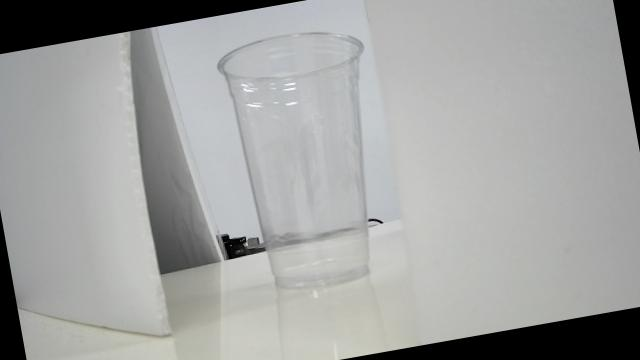Plastik: (218, 32, 369, 288)
